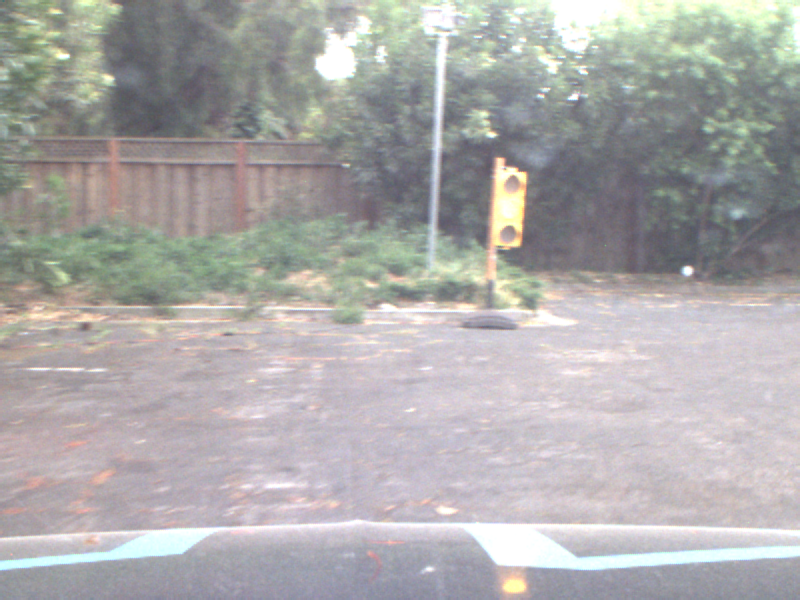Yellow: (492, 170, 522, 248)
